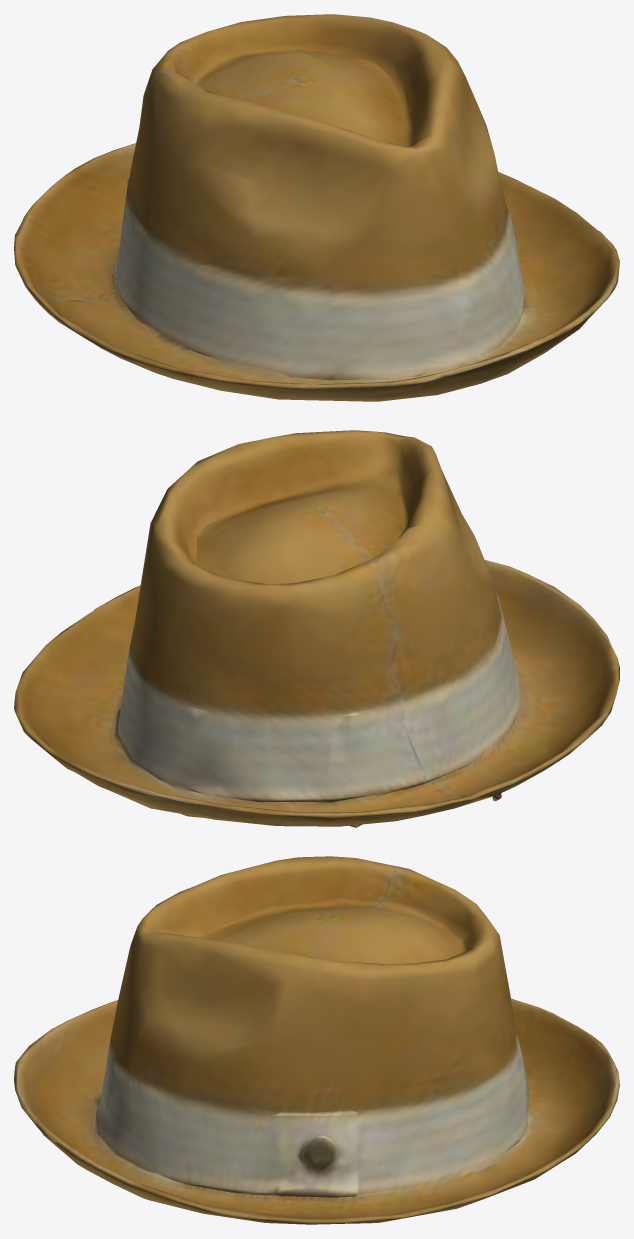
File: gso_retail_leadership_summit.glb
3 renders of one model, top to bottom at view 1: azimuth 30°, elevation 25°; view 2: azimuth 150°, elevation 25°; view 3: azimuth 270°, elevation 25°, orthographic. The views are drawn at different scales.
Parts seen in each view (by area): view 1: z-up-to-y-up; view 2: z-up-to-y-up; view 3: z-up-to-y-up.
Boxes of the visible parts, x1,y1,x2,y2 form: z-up-to-y-up: [14, 14, 619, 401]; z-up-to-y-up: [14, 430, 619, 827]; z-up-to-y-up: [14, 856, 619, 1224].
Bounding box in the file's own units: 0.2672 × 0.1175 × 0.2884.
1 material, 1 textured.
